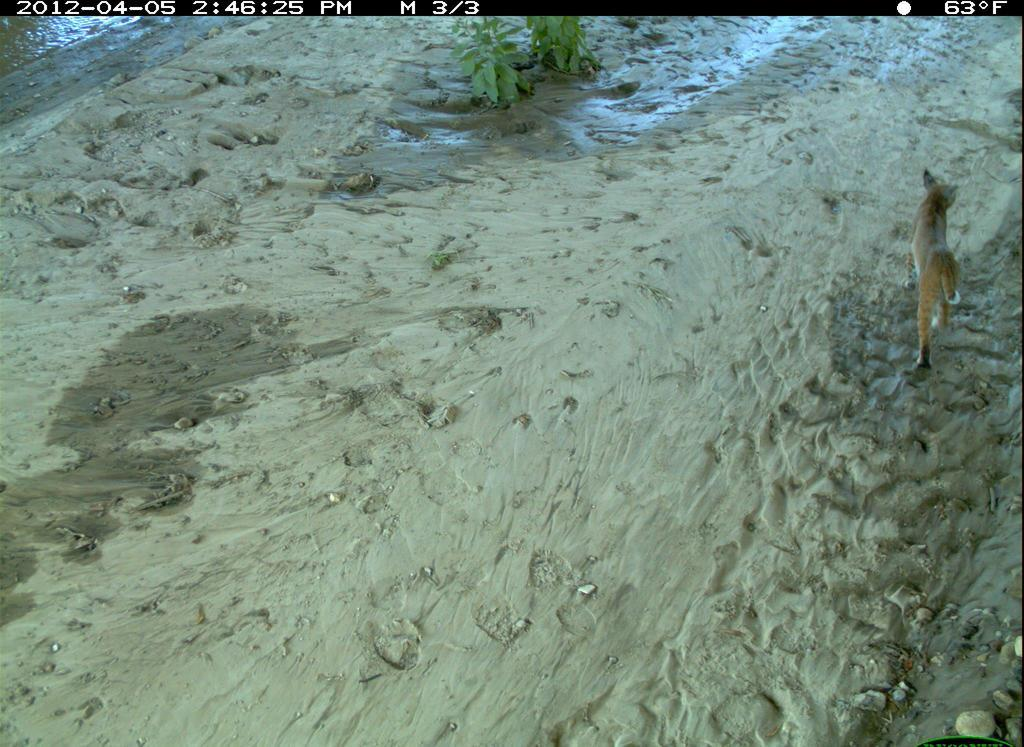bobcat: (899, 162, 975, 379)
